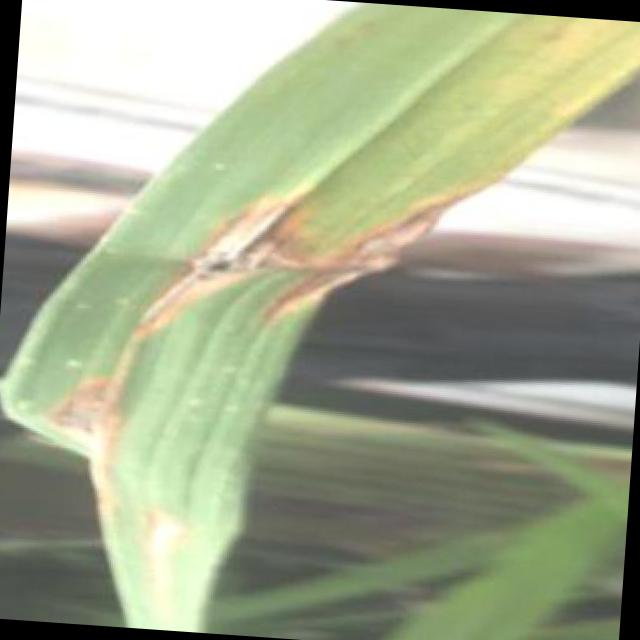Rice_Blast: (265, 163, 497, 355), (128, 154, 324, 375), (8, 352, 142, 510), (113, 472, 230, 614)
